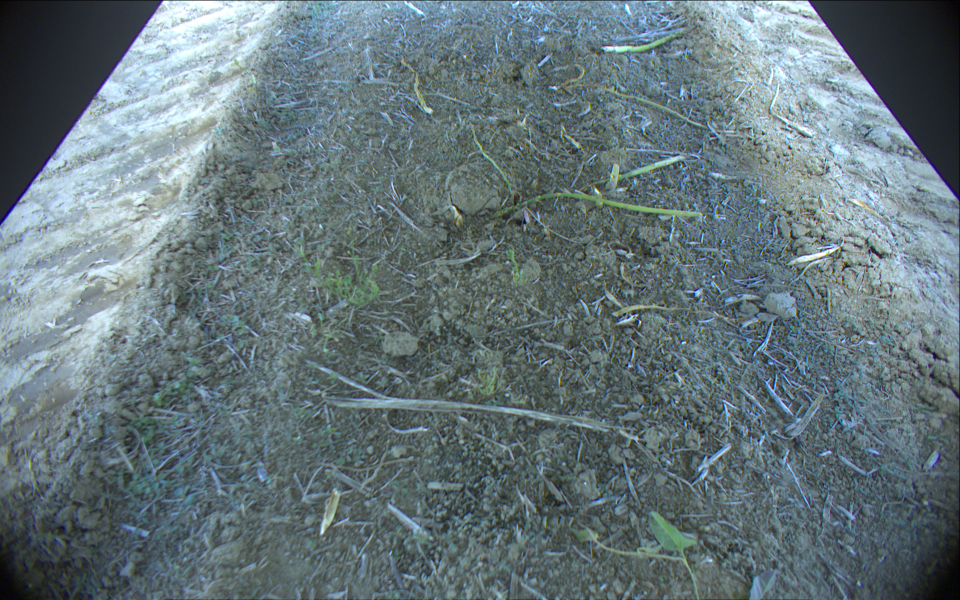aspa: (484, 193, 702, 222), (596, 88, 708, 130), (587, 152, 686, 187), (470, 124, 515, 201), (602, 26, 694, 51), (400, 58, 434, 114), (607, 163, 621, 193)
